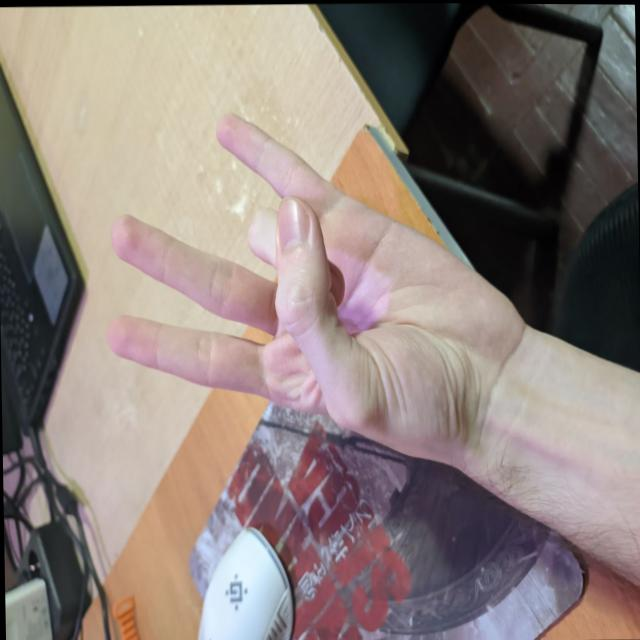n: (93, 103, 477, 449)
